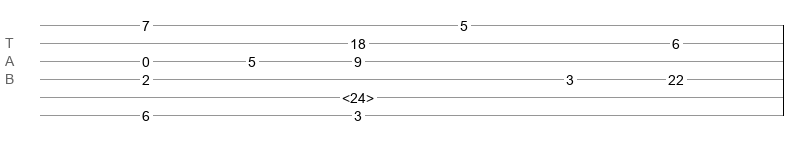0: (142, 54, 150, 64)
18: (350, 36, 366, 46)
2: (142, 72, 150, 82)
22: (668, 72, 684, 82)
3: (354, 108, 362, 118), (566, 72, 574, 82)
5: (248, 54, 256, 64), (460, 18, 468, 28)
6: (142, 108, 150, 118), (672, 36, 680, 46)
7: (142, 18, 150, 28)
9: (354, 54, 362, 64)
harmonic: (342, 90, 374, 100)
